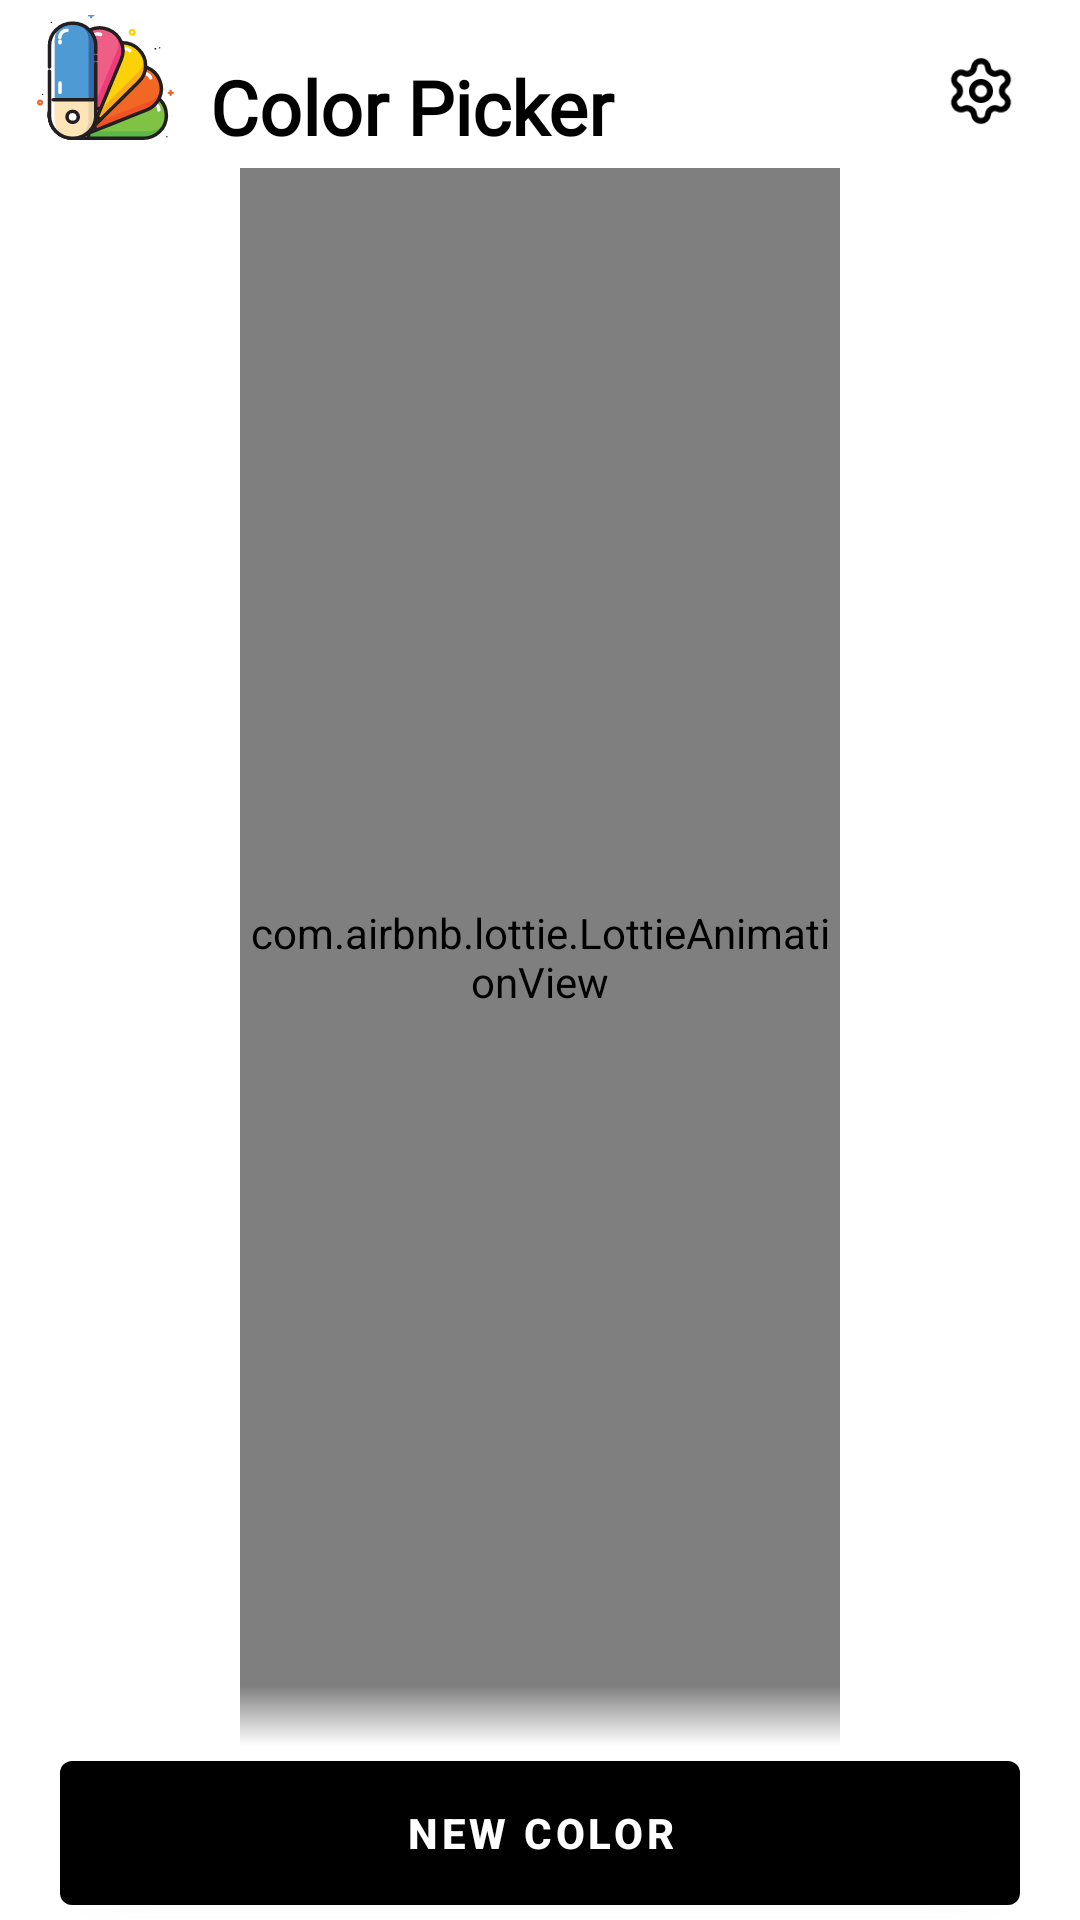

Named icons in this screenshot (1080w x 1920h) and their bounding boxes, bbox(x1, y1, x2, y2):
App Icon: bbox(37, 15, 174, 140)
settings: bbox(950, 58, 1012, 124)
